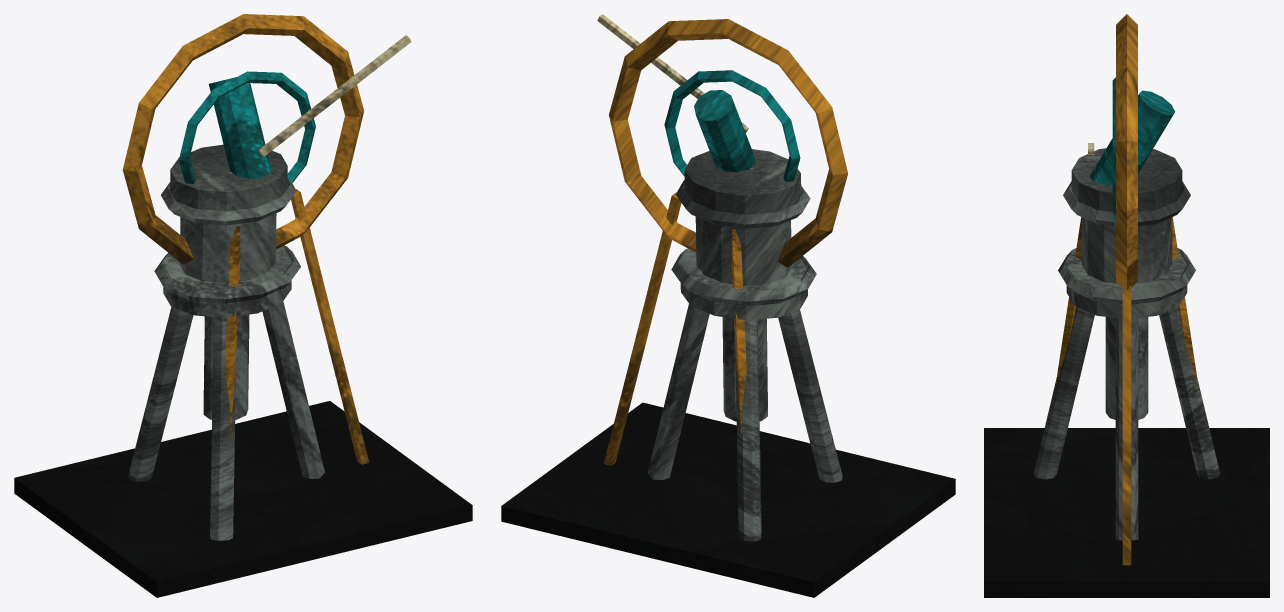
Rendered from south-return-beacon.glb.
3 views of the same model, side by side, from view 1: azimuth 30°, elevation 25°; view 2: azimuth 150°, elevation 25°; view 3: azimuth 270°, elevation 25° (orthographic).
Visible parts, largest first — view 1: south-return-beacon; view 2: south-return-beacon; view 3: south-return-beacon.
Boxes of the visible parts, x1,y1,x2,y2 form: south-return-beacon: (14, 14, 472, 597); south-return-beacon: (501, 14, 955, 597); south-return-beacon: (984, 14, 1269, 597).
Size of the model in its own units: 4.6 by 6.87 by 3.6.
1 material, 1 textured.
